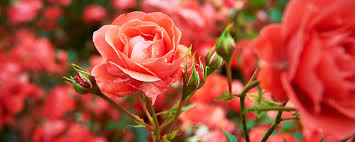lale: (246, 0, 355, 142), (84, 9, 195, 121), (211, 12, 249, 86)
